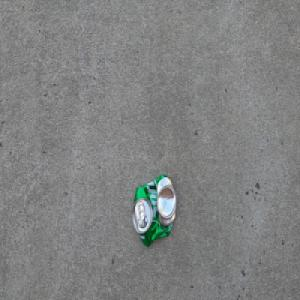SodaCan: (131, 173, 176, 248)
